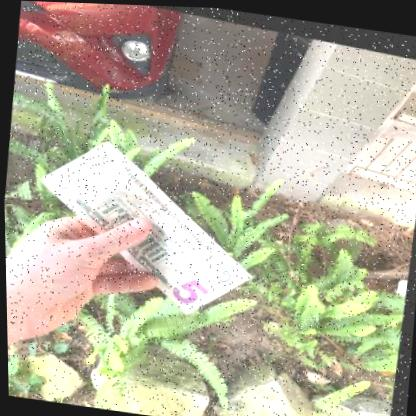five-back: (41, 139, 254, 310)
